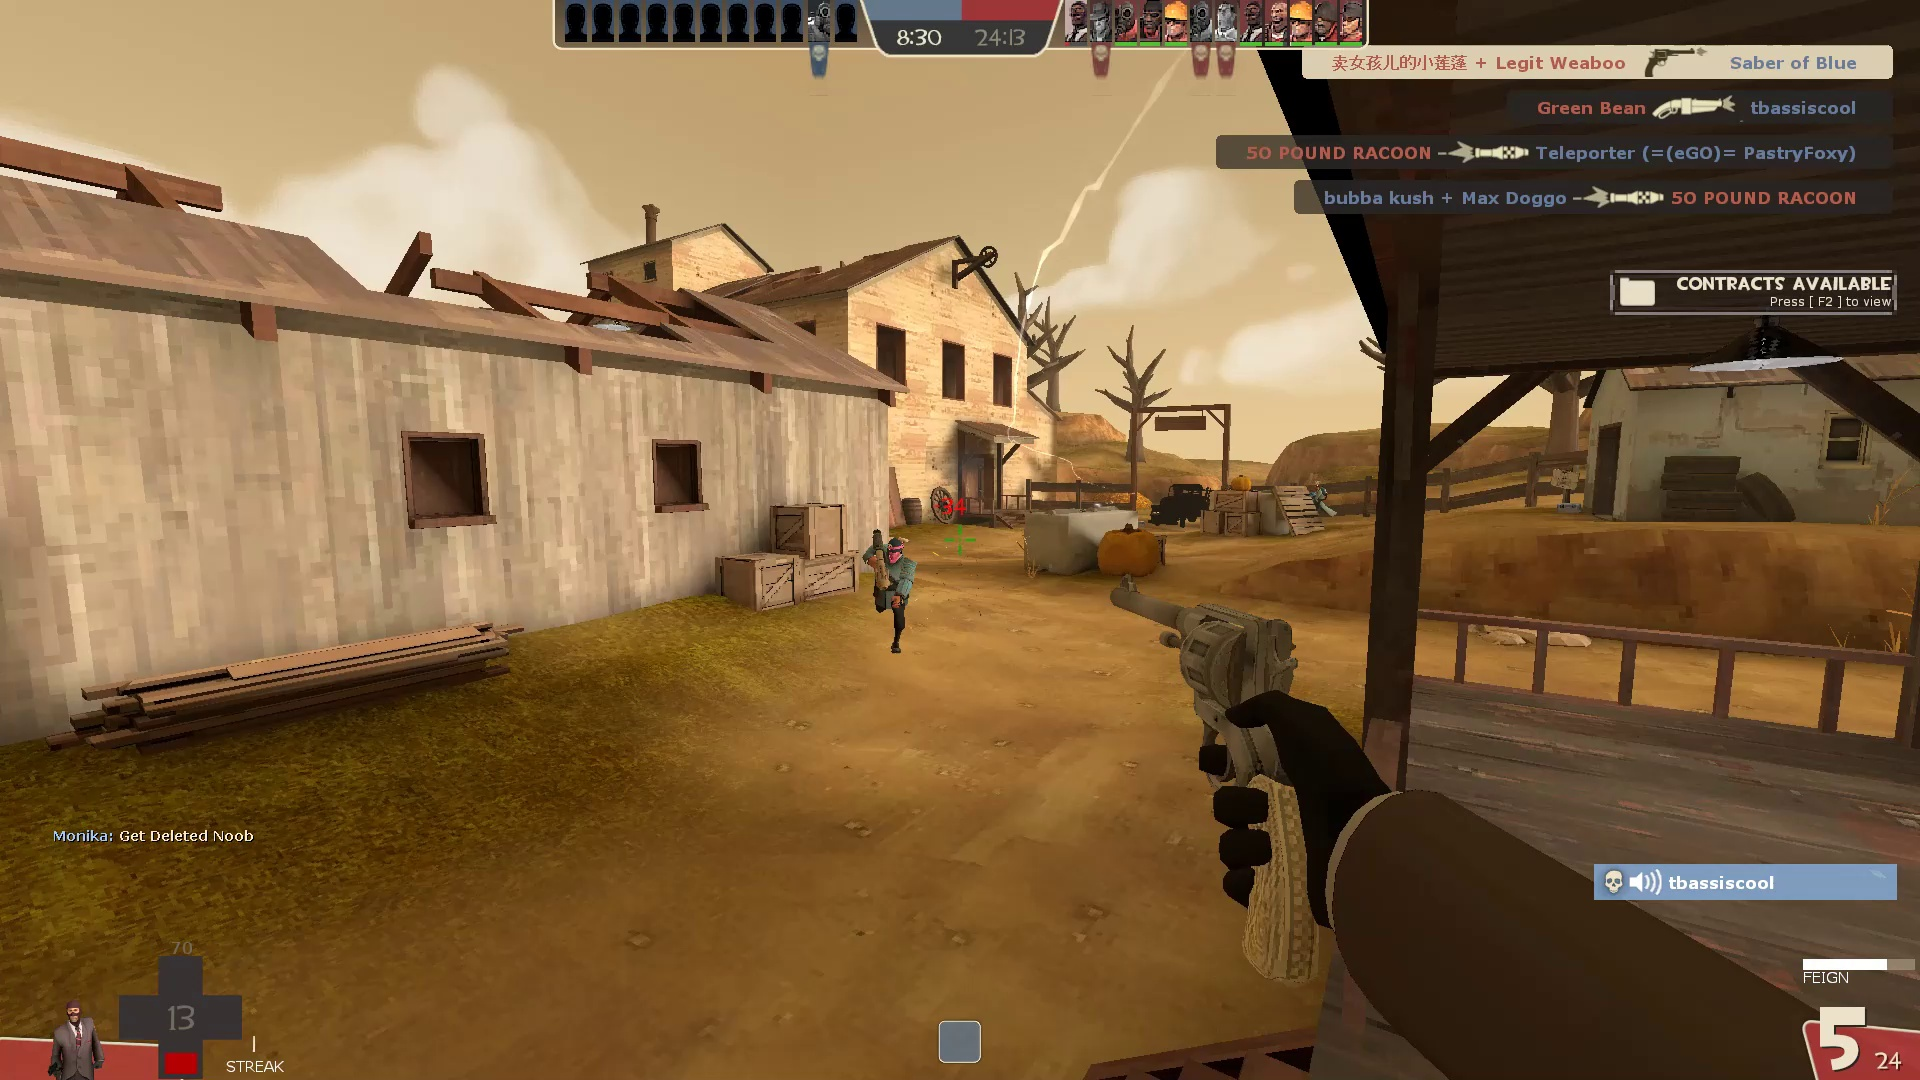blu_medic: (1302, 473, 1342, 525)
blu_soldier: (858, 530, 926, 659)
